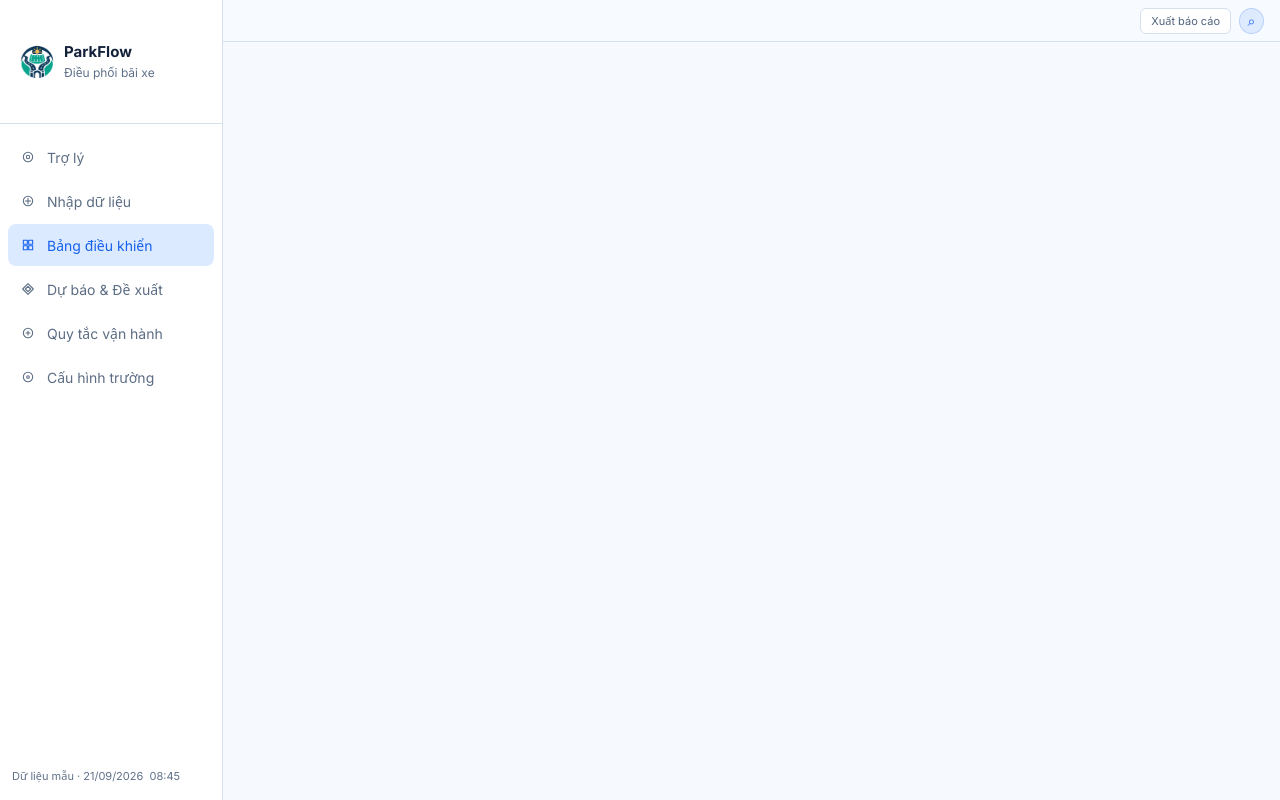
Scenario: opens and closes the AI report drawer
This screenshot has width=1280, height=800.
What coordinates should you click on to do the following:
click the button "Xuất báo cáo"
I would click on:
 (1186, 20)
Its box is top-left (1140, 8), bottom-right (1231, 34).
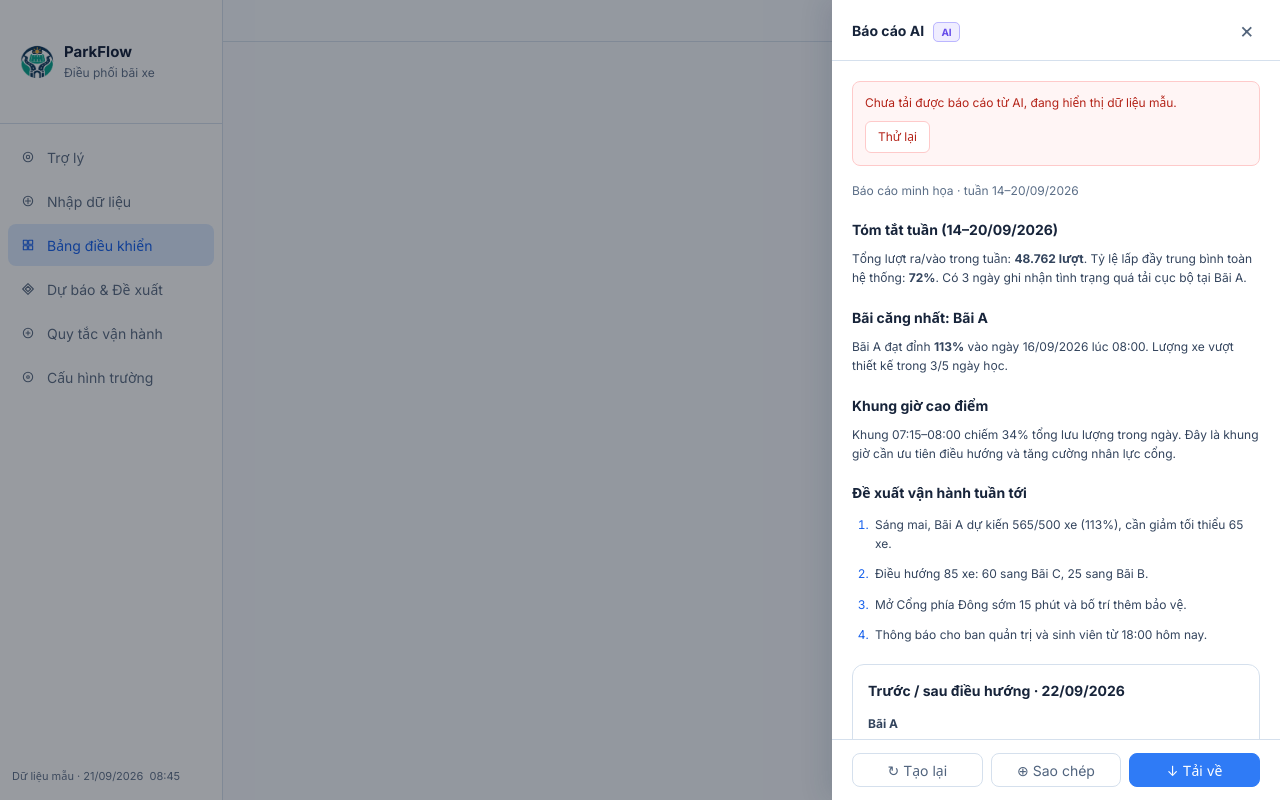
Expected: the dialog "Báo cáo AI" is shown, top-left (832, 0), bottom-right (1279, 799)
Expected: the heading "Tóm tắt tuần (14–20/09/2026)" is shown, top-left (852, 221), bottom-right (1058, 238)
Expected: the text "Chưa tải được báo cáo từ AI, đang hiển thị dữ liệu mẫu." is shown, top-left (865, 95), bottom-right (1177, 110)
What coordinates should you click on to do the following:
click the button named "Đóng báo cáo"
I would click on:
 (1247, 30)
Its box is top-left (1233, 16), bottom-right (1260, 44).
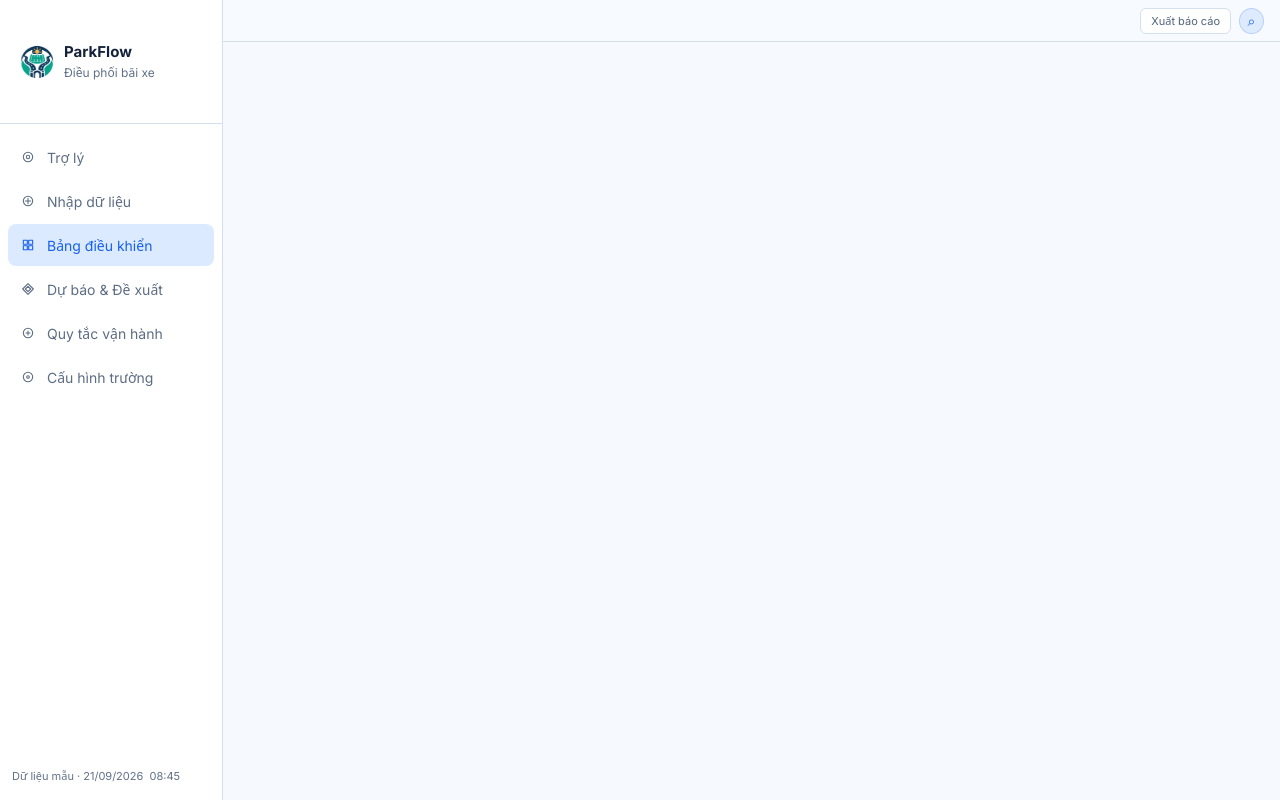
Expected: the heading "Báo cáo AI" is gone
